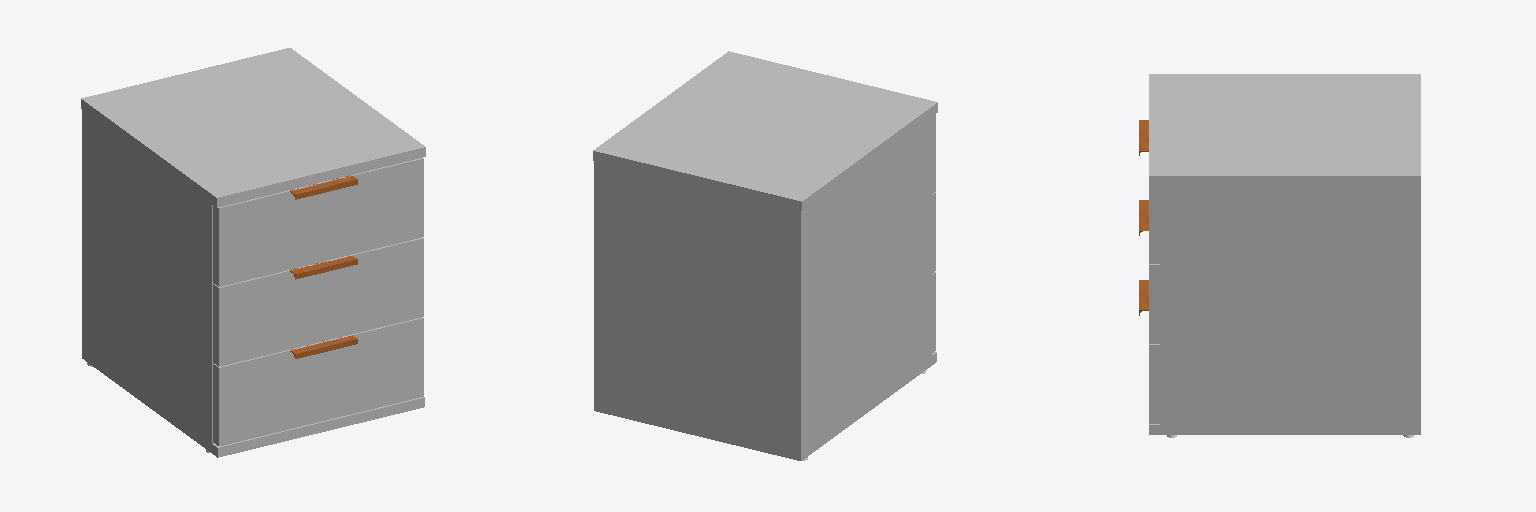
3 renders of one model, left to right at view 1: azimuth 30°, elevation 25°; view 2: azimuth 150°, elevation 25°; view 3: azimuth 270°, elevation 25°, orthographic.
Size of the model in its own units: 400 by 480 by 467.
6 materials, 1 textured.